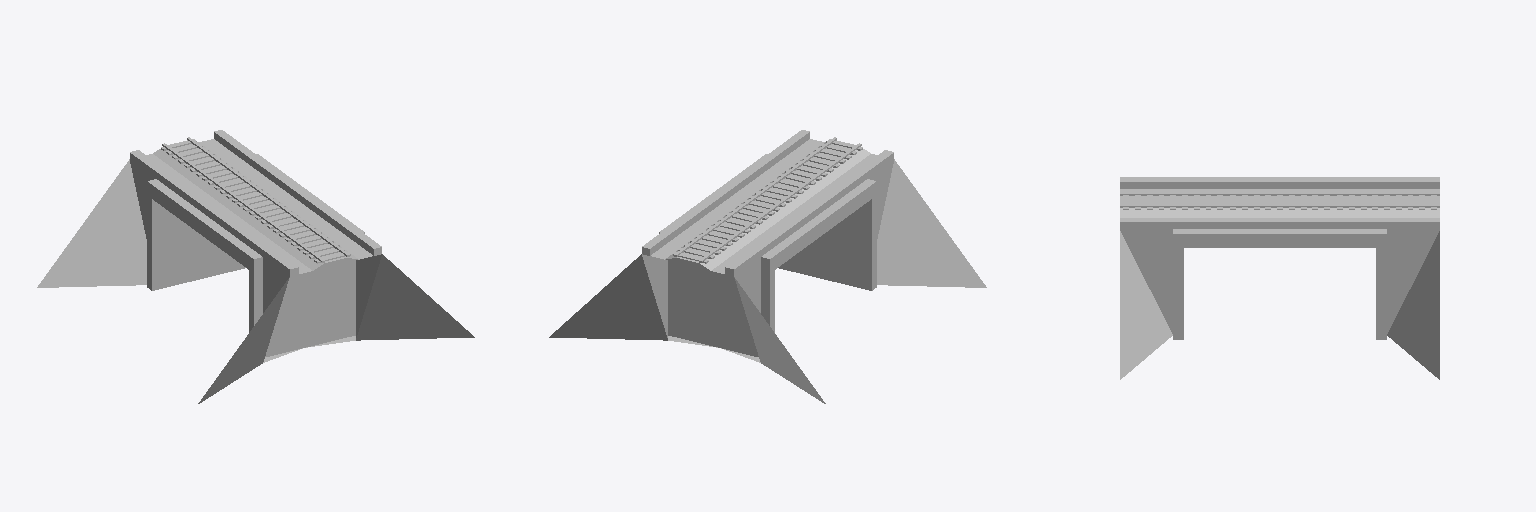
Rendered from SM_Env_Track_Ridge_Bridge_01.obj.
The picture shows the model from 3 angles: view 1: azimuth 30°, elevation 25°; view 2: azimuth 150°, elevation 25°; view 3: azimuth 270°, elevation 25°; orthographic projection.
Visible parts, largest first — view 1: SM_Env_Track_Ridge_Bridge_01:Mesh; view 2: SM_Env_Track_Ridge_Bridge_01:Mesh; view 3: SM_Env_Track_Ridge_Bridge_01:Mesh.
Boxes of the visible parts, x1,y1,x2,y2 form: SM_Env_Track_Ridge_Bridge_01:Mesh: [37, 130, 474, 403]; SM_Env_Track_Ridge_Bridge_01:Mesh: [549, 130, 986, 403]; SM_Env_Track_Ridge_Bridge_01:Mesh: [1120, 177, 1439, 379].
Size of the model in its own units: 30.07 by 11.73 by 30.